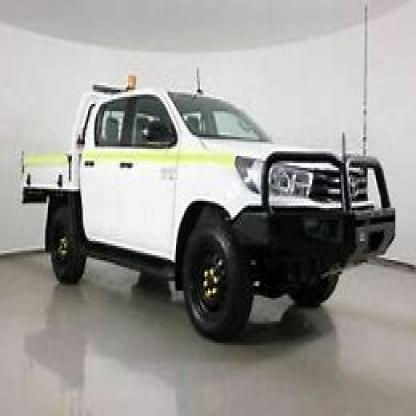light_vehicle: (11, 66, 395, 340)
